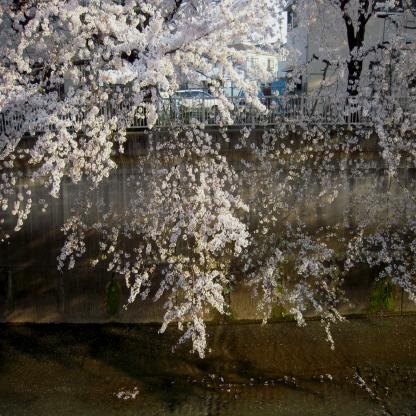Someiyoshino: (1, 2, 414, 369)
